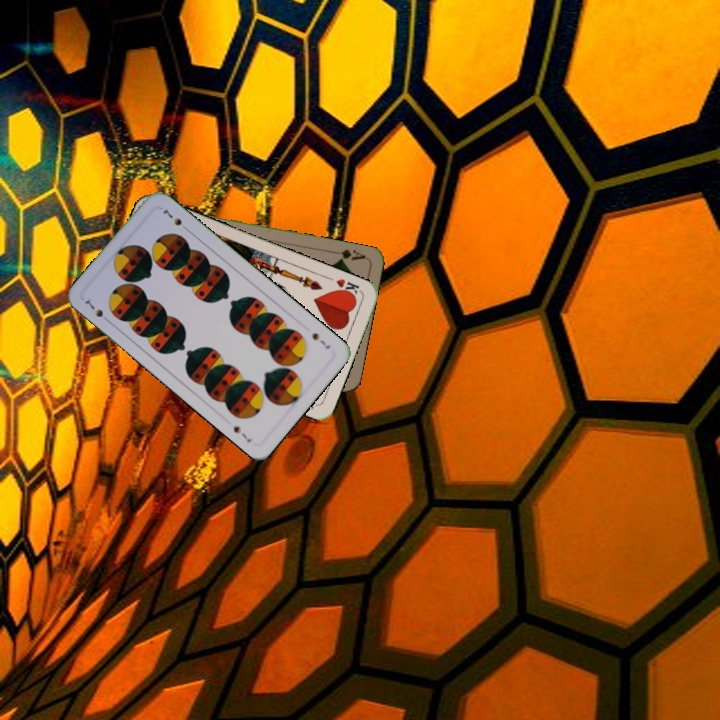GA: (328, 245, 368, 264)
HK: (332, 274, 362, 300)
S7: (81, 295, 113, 326), (308, 329, 333, 352)
